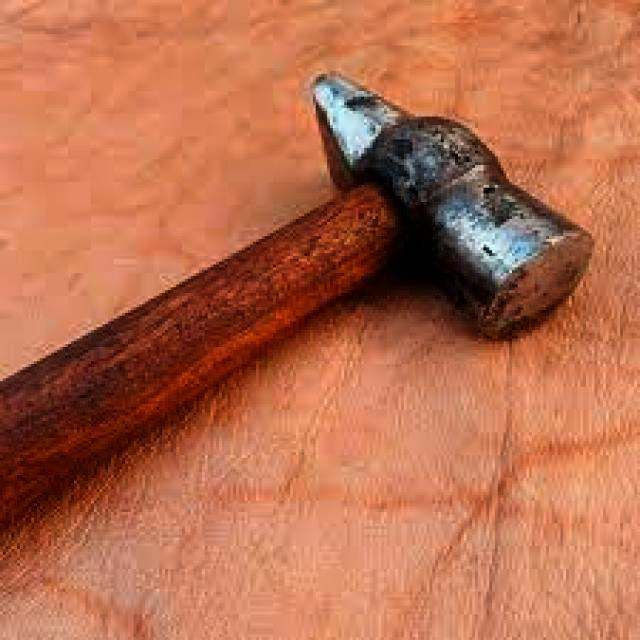hammer: (0, 66, 603, 526)
